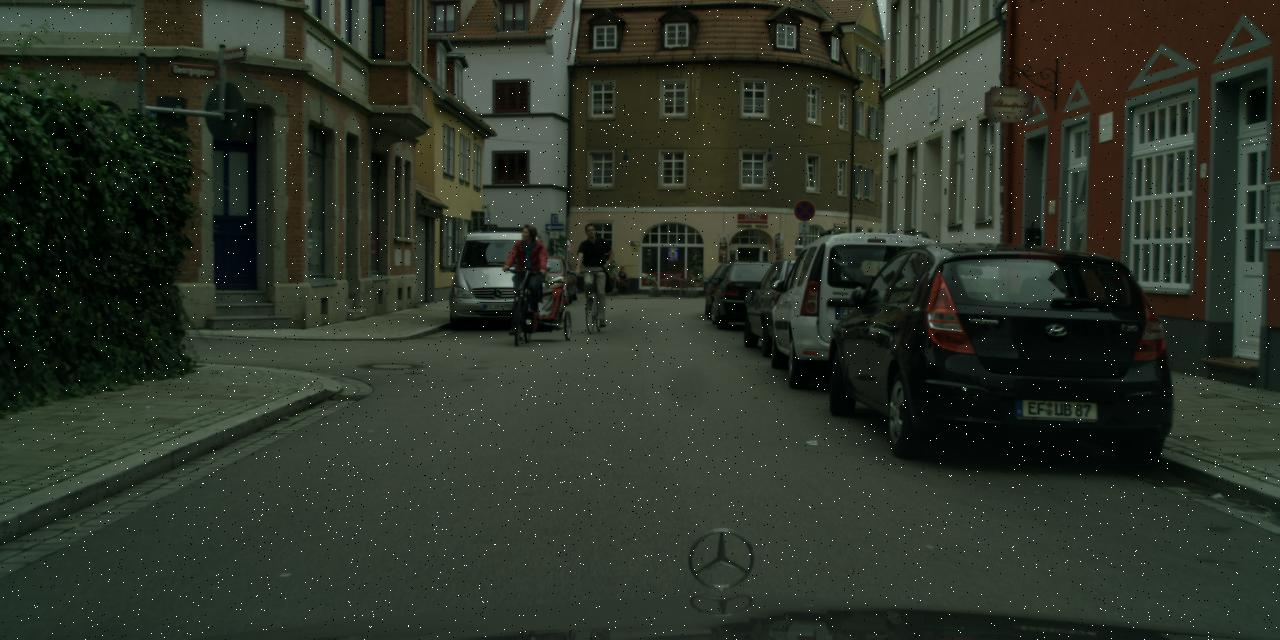ped: (505, 225, 548, 331), (572, 223, 611, 321)
